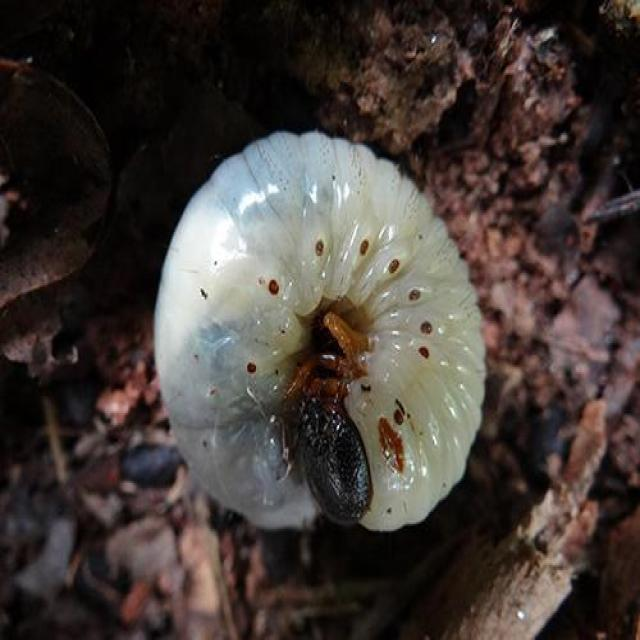Grub-Adult-: (126, 126, 496, 542)
